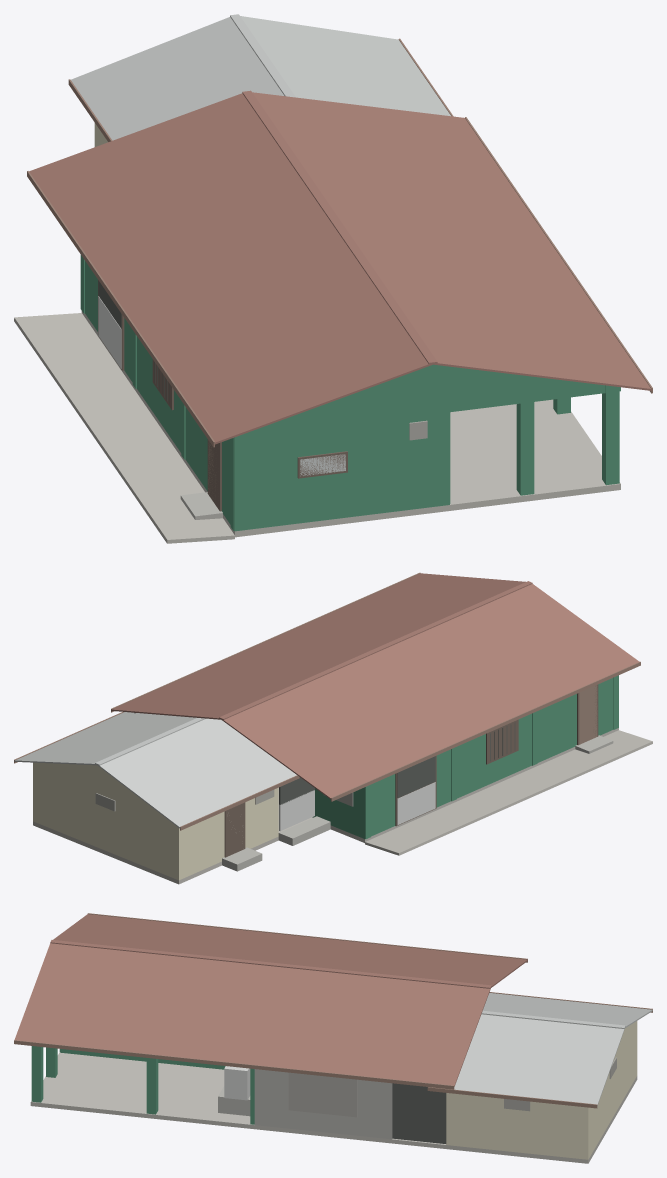
File: rares_office_supply.glb
3 views of the same model, one above another, from view 1: azimuth 30°, elevation 25°; view 2: azimuth 150°, elevation 25°; view 3: azimuth 270°, elevation 25° (orthographic). The views are drawn at different scales.
Visible parts, largest first — view 1: OSS_RoofMain_W, OSS_RoofMain_E, OSS_Wall_SouthWest, OSS_FrontApron, OSS_MainFloor, OSS_RoofCream_W, OSS_RoofCream_E, OSS_MainGable_S, OSS_Wall_WestFront, OSS_RoofMain_Ridge, OSS_Pillar_MidSouth, OSS_Pillar_CornerSE (+9 smaller); view 2: OSS_RoofMain_W, OSS_RoofMain_E, OSS_CreamBlock, OSS_RoofCream_W, OSS_Wall_WestFront, OSS_FrontApron, OSS_RoofCream_E, OSS_RoofMain_Ridge, OSS_RoofMain_Fascia_W, OSS_Wall_GreenNorthStep, OSS_CreamGable_N, OSS_NorthFloor (+13 smaller); view 3: OSS_RoofMain_E, OSS_RoofMain_W, OSS_RoofCream_E, OSS_MainFloor, OSS_CreamBlock, OSS_Wall_EastRaw, OSS_RoofCream_W, OSS_Breeze_EastMesh, OSS_Breeze_EastRaw, OSS_RoofMain_Fascia_E, OSS_RoofMain_Ridge, OSS_NorthFloor (+8 smaller).
Part boxes in pixels (left/top/right/bottom): OSS_RoofMain_W: left=29, top=93, right=432, bottom=444; OSS_RoofMain_E: left=252, top=92, right=651, bottom=390; OSS_Wall_SouthWest: left=234, top=402, right=449, bottom=531; OSS_FrontApron: left=14, top=313, right=234, bottom=543; OSS_MainFloor: left=81, top=311, right=620, bottom=537; OSS_RoofCream_W: left=71, top=17, right=284, bottom=140; OSS_RoofCream_E: left=240, top=16, right=450, bottom=116; OSS_MainGable_S: left=273, top=364, right=593, bottom=423; OSS_Wall_WestFront: left=85, top=261, right=244, bottom=530; OSS_RoofMain_Ridge: left=242, top=90, right=437, bottom=364; OSS_Pillar_MidSouth: left=516, top=391, right=534, bottom=495; OSS_Pillar_CornerSE: left=602, top=385, right=619, bottom=485; OSS_RoofMain_W: left=221, top=584, right=639, bottom=799; OSS_RoofMain_E: left=111, top=573, right=525, bottom=719; OSS_CreamBlock: left=33, top=762, right=278, bottom=880; OSS_RoofCream_W: left=97, top=718, right=296, bottom=828; OSS_Wall_WestFront: left=360, top=677, right=613, bottom=838; OSS_FrontApron: left=365, top=730, right=652, bottom=855; OSS_RoofCream_E: left=14, top=712, right=196, bottom=765; OSS_RoofMain_Ridge: left=219, top=581, right=532, bottom=719; OSS_RoofMain_Fascia_W: left=331, top=661, right=640, bottom=801; OSS_Wall_GreenNorthStep: left=312, top=788, right=364, bottom=837; OSS_CreamGable_N: left=44, top=763, right=150, bottom=806; OSS_NorthFloor: left=33, top=804, right=311, bottom=884; OSS_RoofMain_E: left=14, top=943, right=490, bottom=1086; OSS_RoofMain_W: left=53, top=914, right=527, bottom=987; OSS_RoofCream_E: left=454, top=1014, right=624, bottom=1105; OSS_MainFloor: left=30, top=1052, right=391, bottom=1143; OSS_CreamBlock: left=446, top=1021, right=637, bottom=1159; OSS_Wall_EastRaw: left=254, top=1069, right=392, bottom=1139; OSS_RoofCream_W: left=483, top=993, right=652, bottom=1027; OSS_Breeze_EastMesh: left=392, top=1083, right=446, bottom=1143; OSS_Breeze_EastRaw: left=288, top=1072, right=357, bottom=1117; OSS_RoofMain_Fascia_E: left=14, top=1040, right=454, bottom=1089; OSS_RoofMain_Ridge: left=50, top=940, right=491, bottom=988; OSS_NorthFloor: left=392, top=1076, right=637, bottom=1163.
Bounding box in the file's own units: 16.54 × 4.28 × 22.7.
